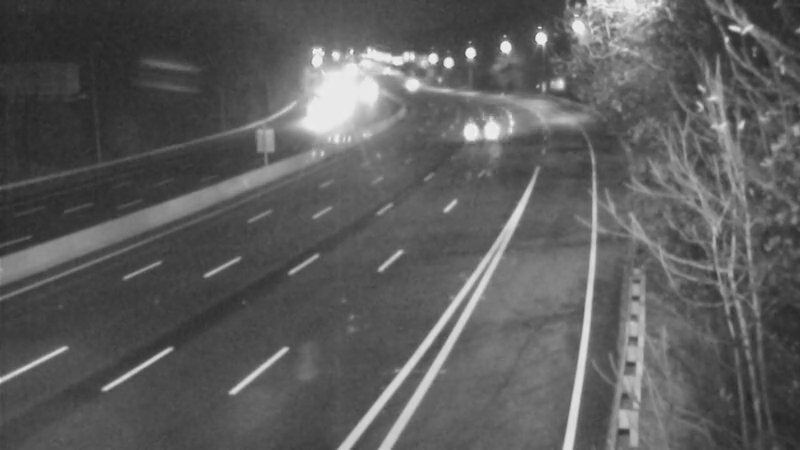vehicle: (386, 60, 436, 110), (441, 104, 491, 154), (291, 93, 341, 143)
